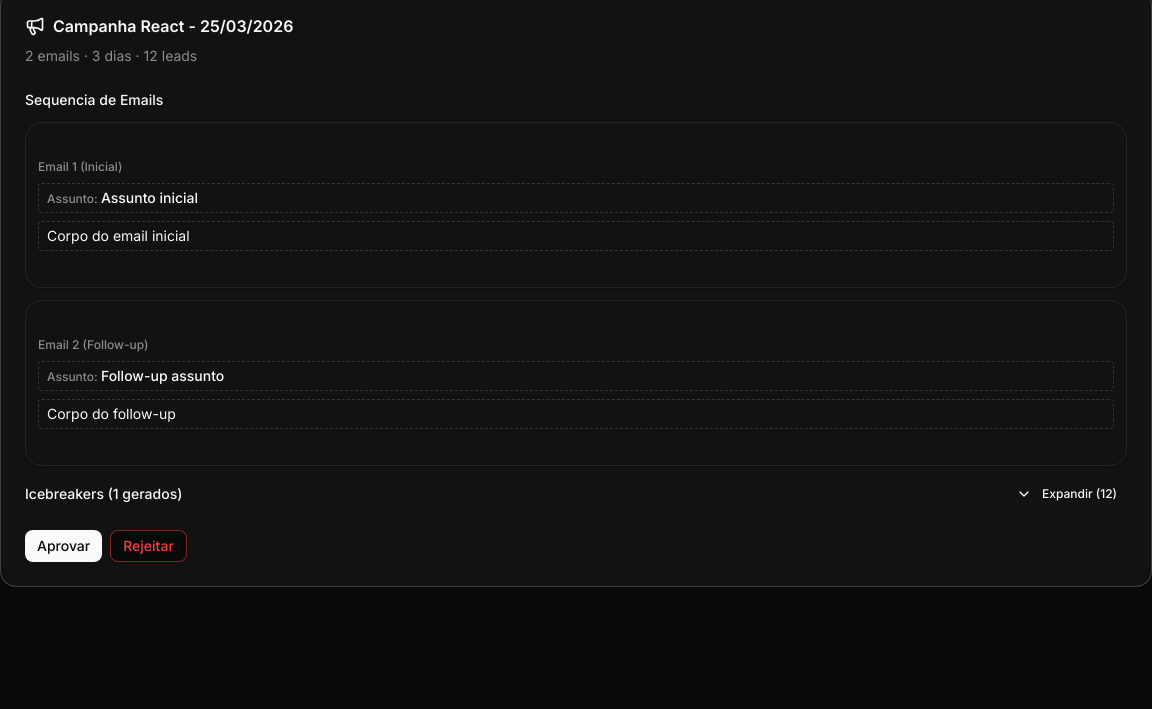
Scenario: AgentCampaignPreview (AC: #1, #2, #3) › collapses icebreakers when more than 10 leads
Note: Click to expand
Click the button with test id "icebreaker-toggle" at point(1066, 494), box [1006, 482, 1127, 506]
(page scrolled)
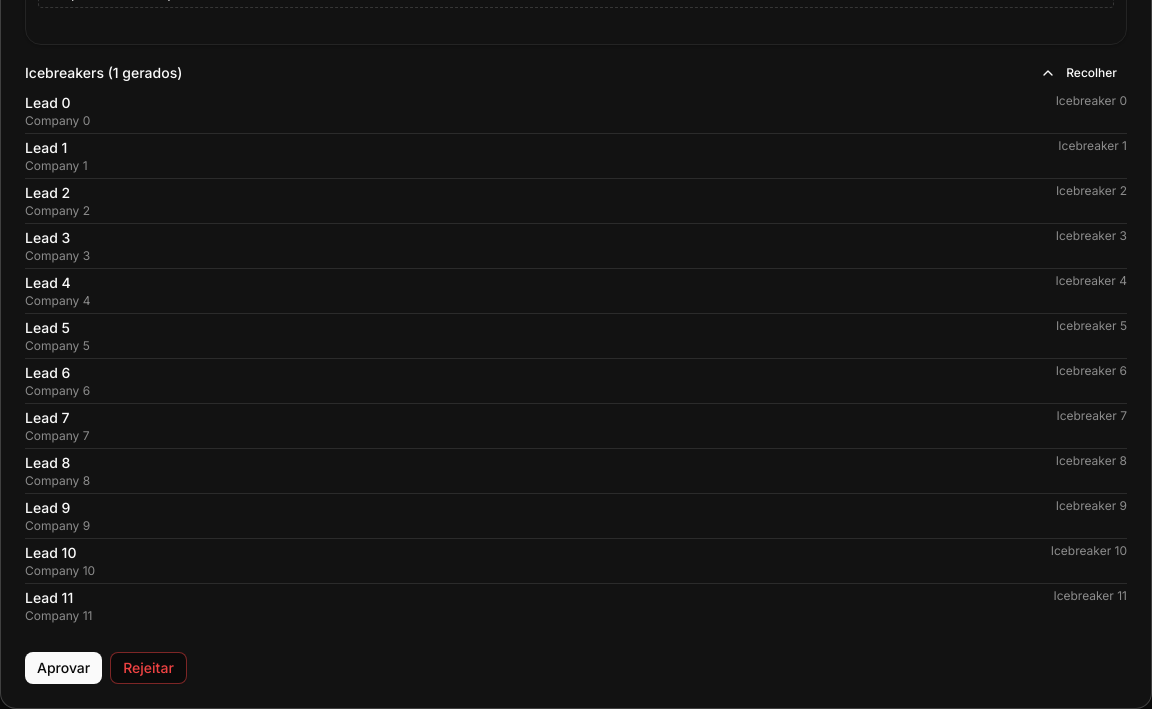
Now the element with test id "icebreaker-list" is shown
